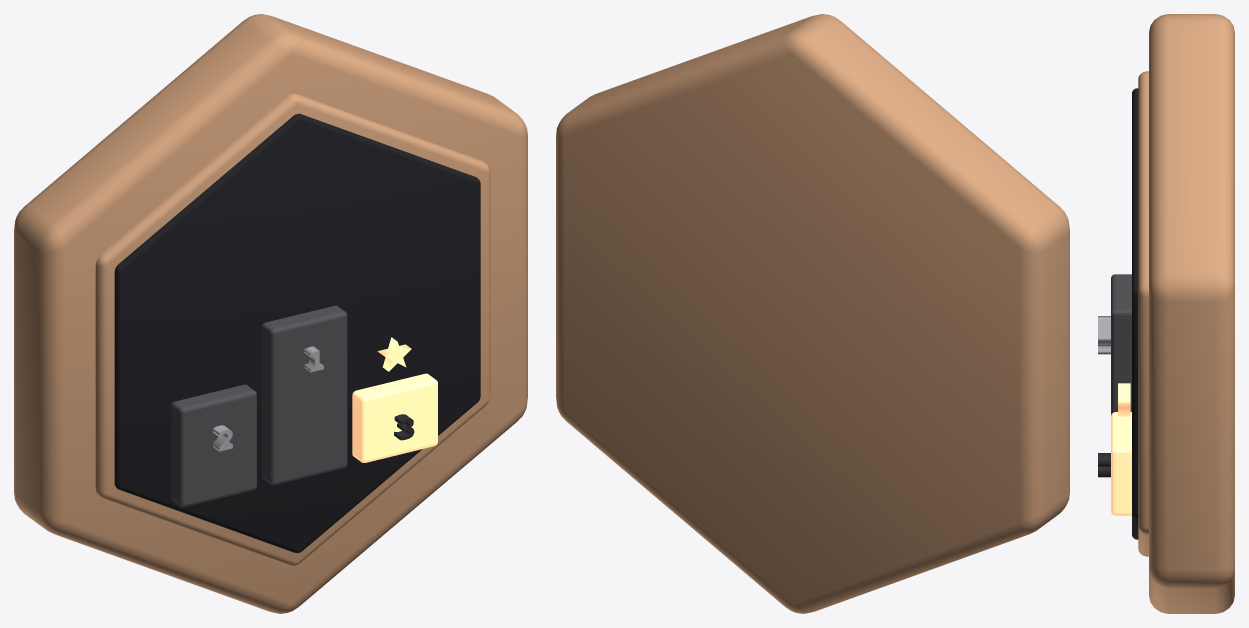
File: podium-3.glb
3 renders of one model, left to right at view 1: azimuth 30°, elevation 25°; view 2: azimuth 150°, elevation 25°; view 3: azimuth 270°, elevation 25°, orthographic. The views are drawn at different scales.
Parts seen in each view (by area): view 1: frame, panel, ring, Cube.001, Cube, Cube.002; view 2: frame; view 3: frame, ring, panel, Cube.001, Cube.002, Text.003, Text.001, Text.002.
Boxes of the visible parts, x1,y1,x2,y2 form: frame: (14, 14, 527, 613); panel: (114, 113, 480, 553); ring: (95, 94, 490, 566); Cube.001: (261, 305, 347, 485); Cube: (171, 384, 256, 507); Cube.002: (352, 373, 437, 462); frame: (556, 14, 1069, 613); frame: (1149, 14, 1234, 613); ring: (1138, 71, 1148, 556); panel: (1132, 88, 1138, 539); Cube.001: (1111, 274, 1131, 415); Cube.002: (1111, 412, 1131, 515); Text.003: (1118, 383, 1130, 416); Text.001: (1098, 316, 1110, 341); Text.002: (1098, 453, 1110, 477).
Bounding box in the file's own units: 1.07 × 1.22 × 0.255.
